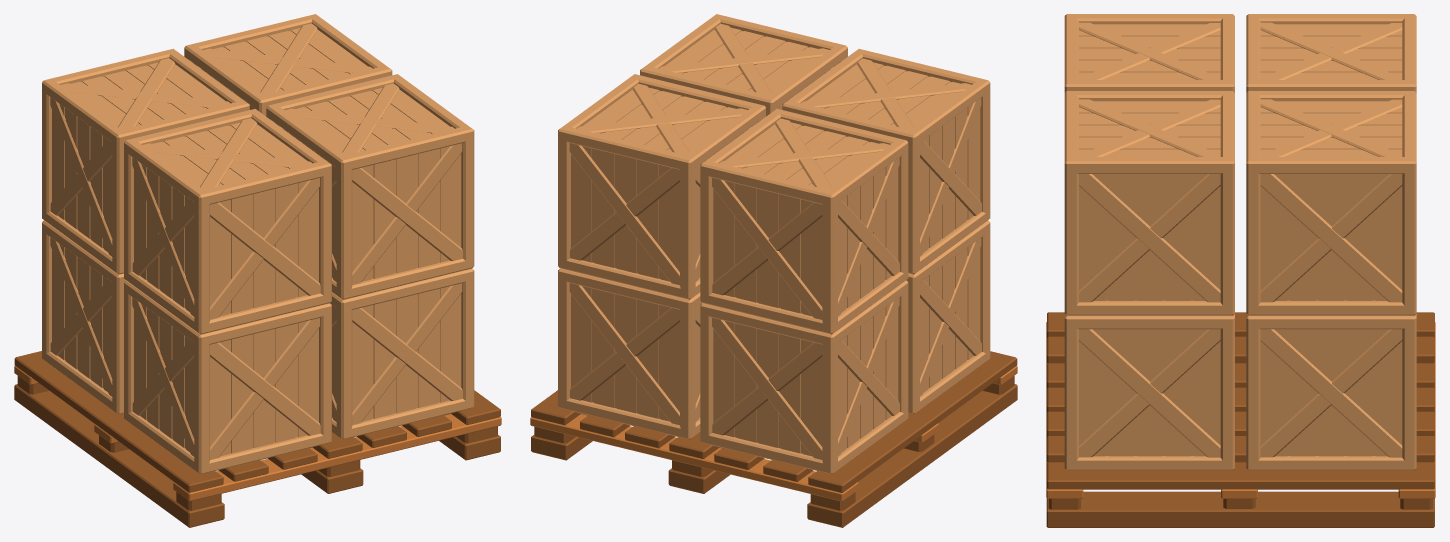
The picture shows the model from 3 angles, left to right: view 1: azimuth 30°, elevation 25°; view 2: azimuth 150°, elevation 25°; view 3: azimuth 270°, elevation 25°; orthographic projection. The views are drawn at different scales.
Visible parts, largest first — view 1: Box B; view 2: Box B; view 3: Box B.
Part boxes in pixels (box(x1,y1,x2,y2)): Box B: box(14, 14, 501, 527); Box B: box(530, 14, 1017, 527); Box B: box(1046, 14, 1435, 527).
Size of the model in its own units: 239 by 235 by 232.
